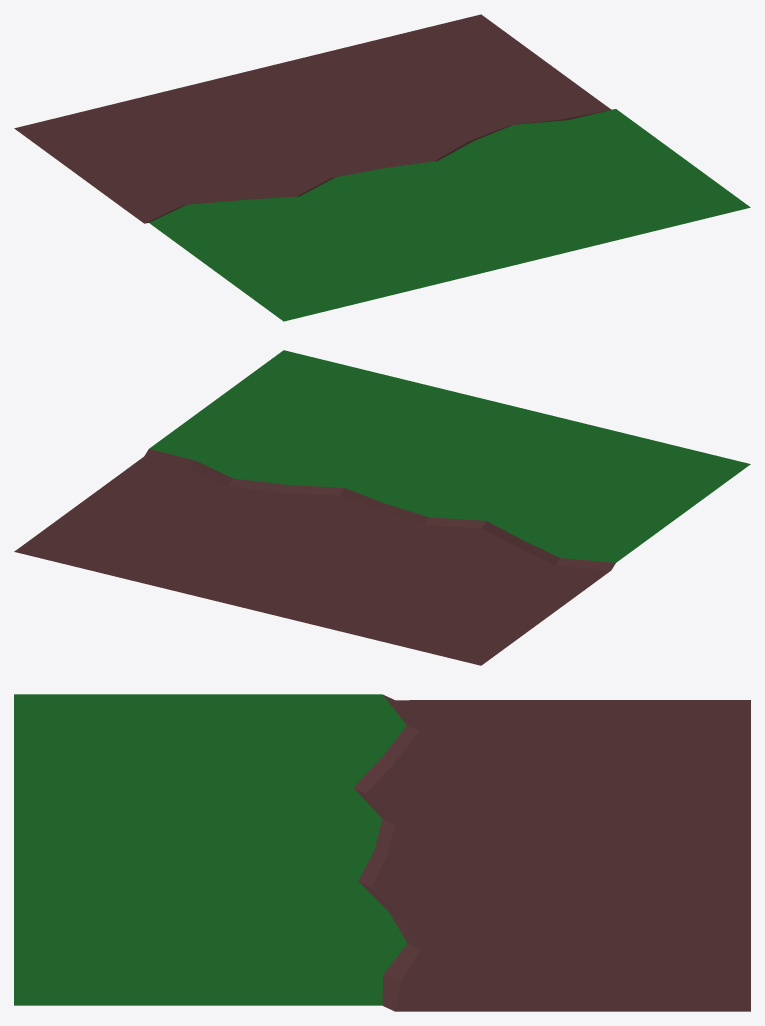
File: Cesped_Barro_Lado.fbx
3 views of the same model, one above another, from view 1: azimuth 30°, elevation 25°; view 2: azimuth 150°, elevation 25°; view 3: azimuth 270°, elevation 25° (orthographic). The views are drawn at different scales.
Visible parts, largest first — view 1: Cesped_Barro_Lado; view 2: Cesped_Barro_Lado; view 3: Cesped_Barro_Lado.
Part boxes in pixels (box(x1,y1,x2,y2)): Cesped_Barro_Lado: box(14, 14, 750, 321); Cesped_Barro_Lado: box(14, 350, 750, 665); Cesped_Barro_Lado: box(14, 694, 750, 1011).
Size of the model in its own units: 2000 by 17.28 by 2000.
